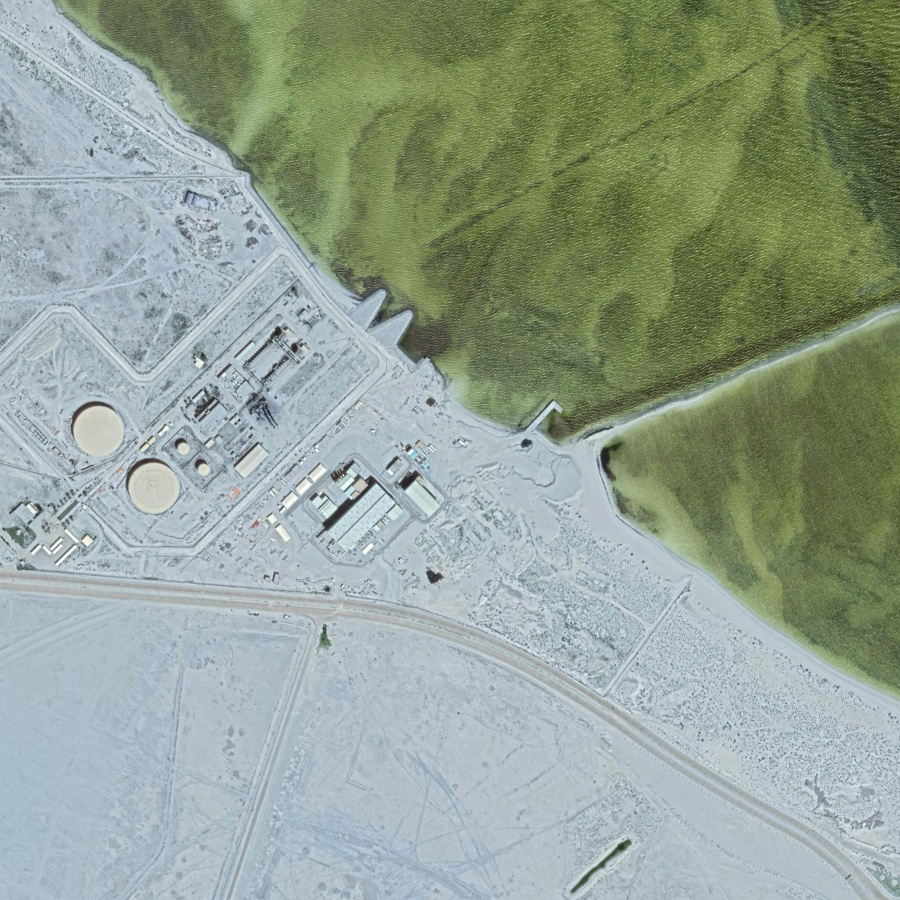PowerPlant: (50, 296, 455, 583)
